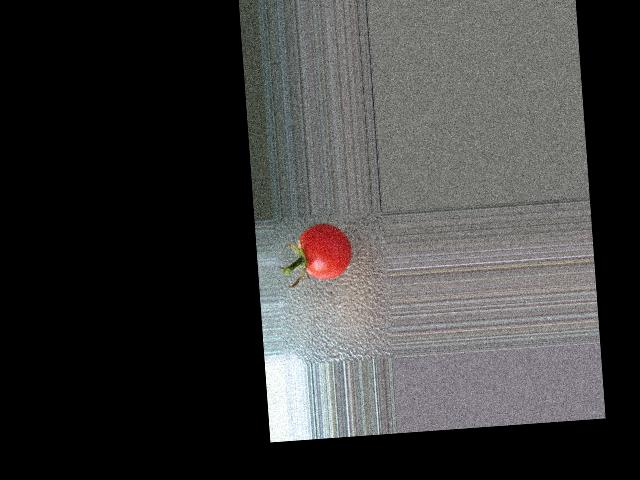tomato: (298, 222, 354, 282)
